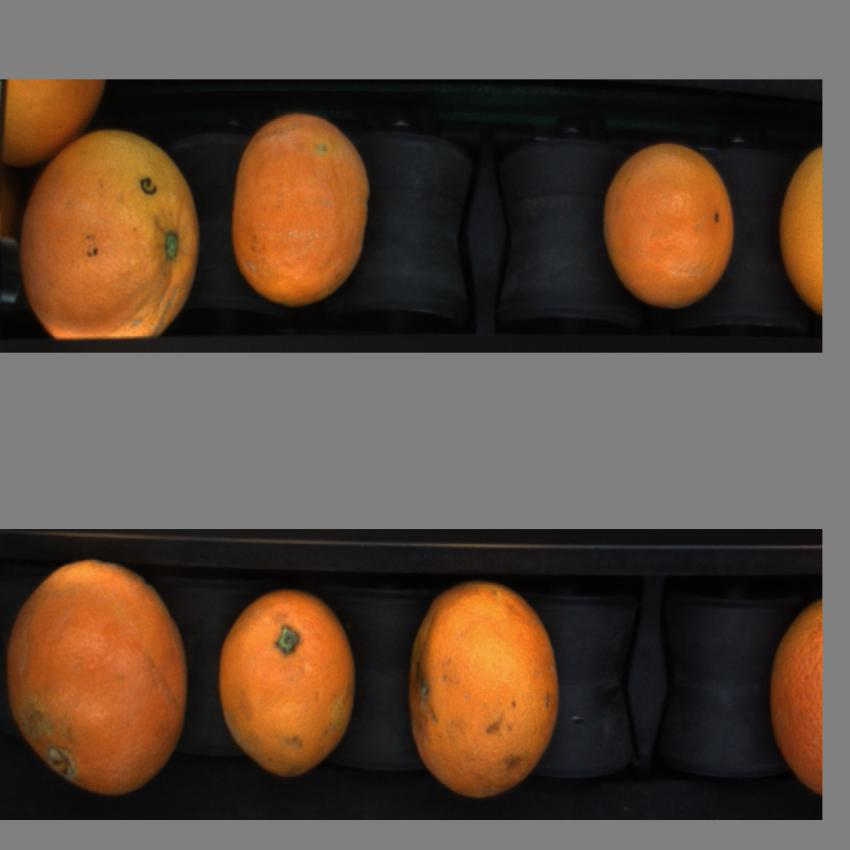Buen estado: (6, 551, 194, 806), (14, 134, 202, 342), (211, 577, 361, 787), (600, 127, 744, 314), (763, 591, 823, 816), (0, 78, 109, 166), (774, 136, 822, 321)
Mal estado: (398, 566, 574, 808), (228, 97, 382, 319)
